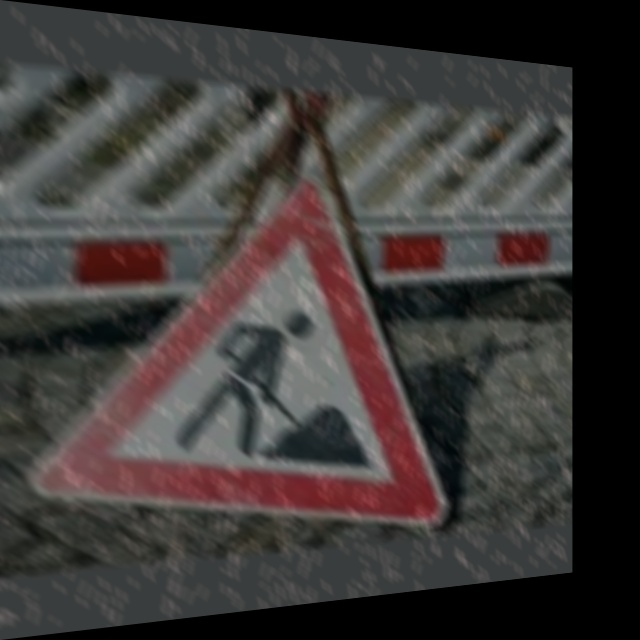Men_at_Work: (90, 177, 449, 555)
